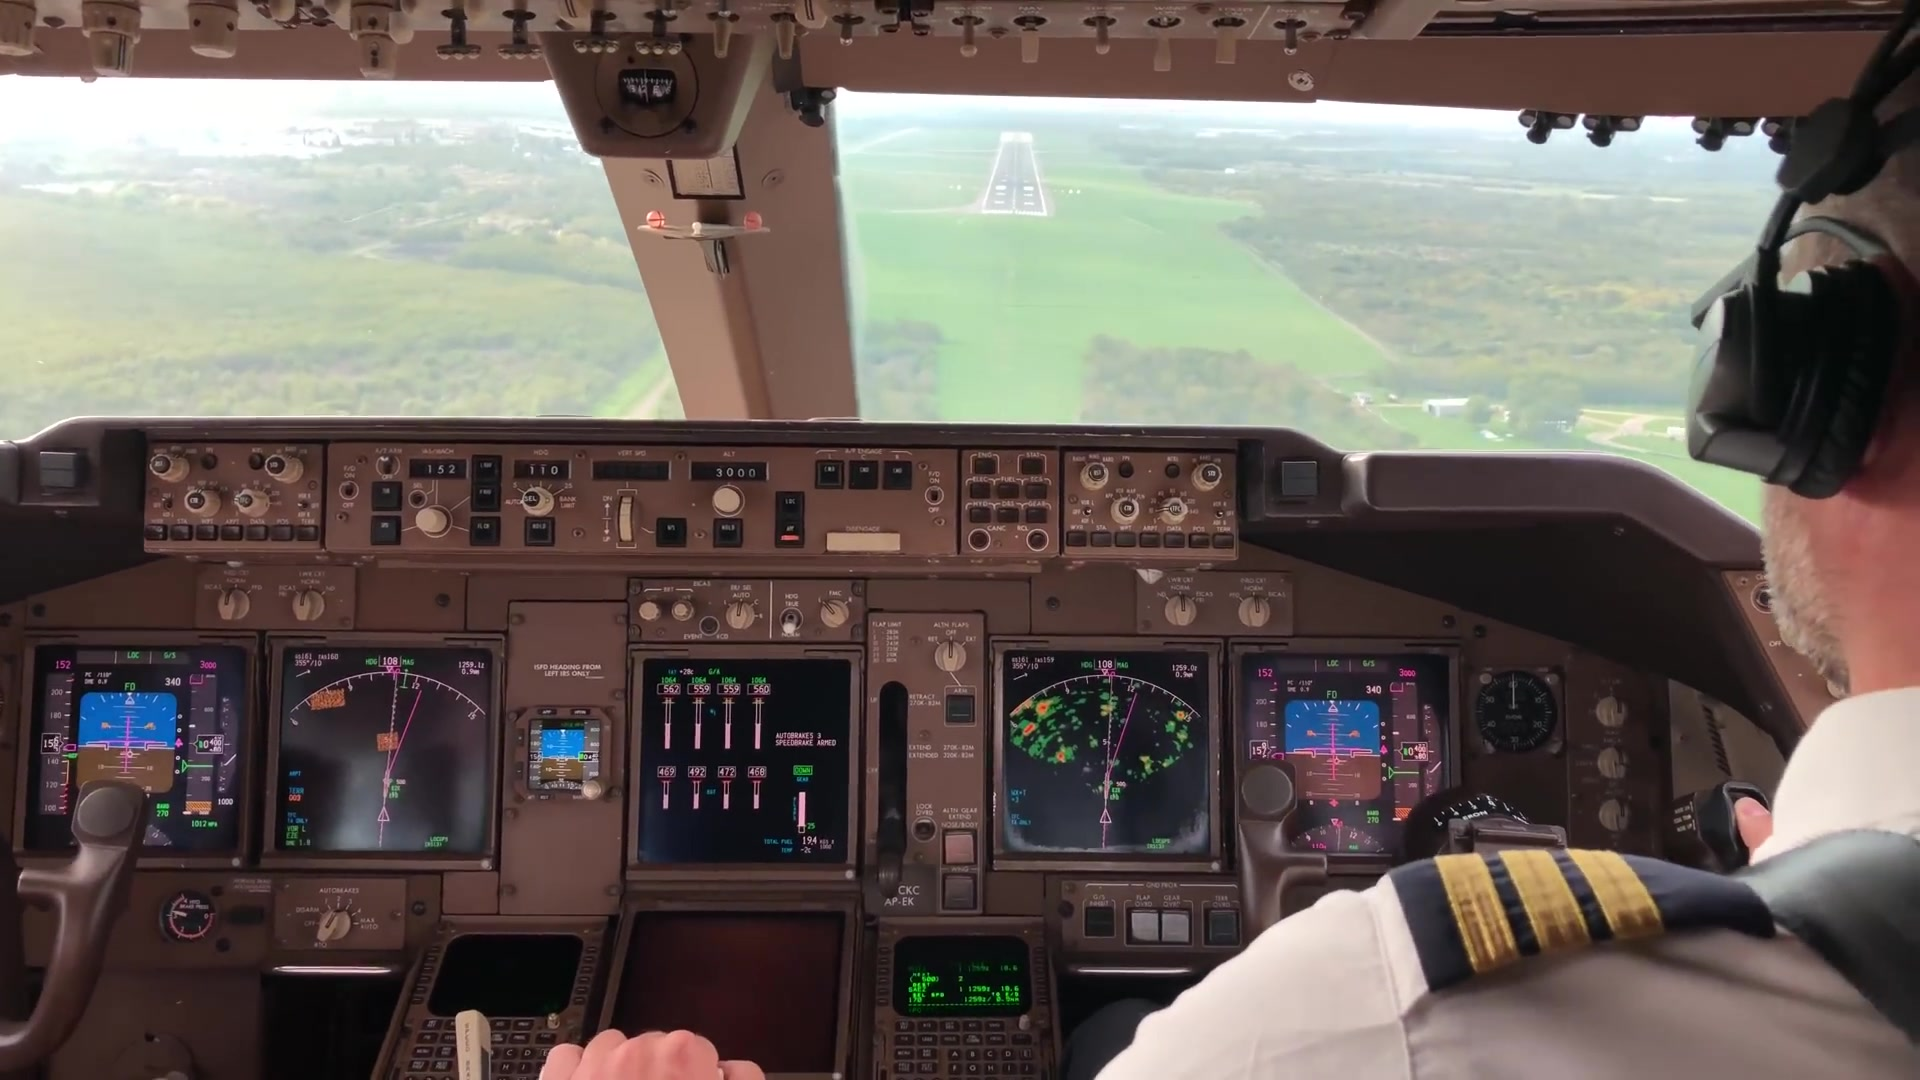runway: (977, 135, 1055, 218)
